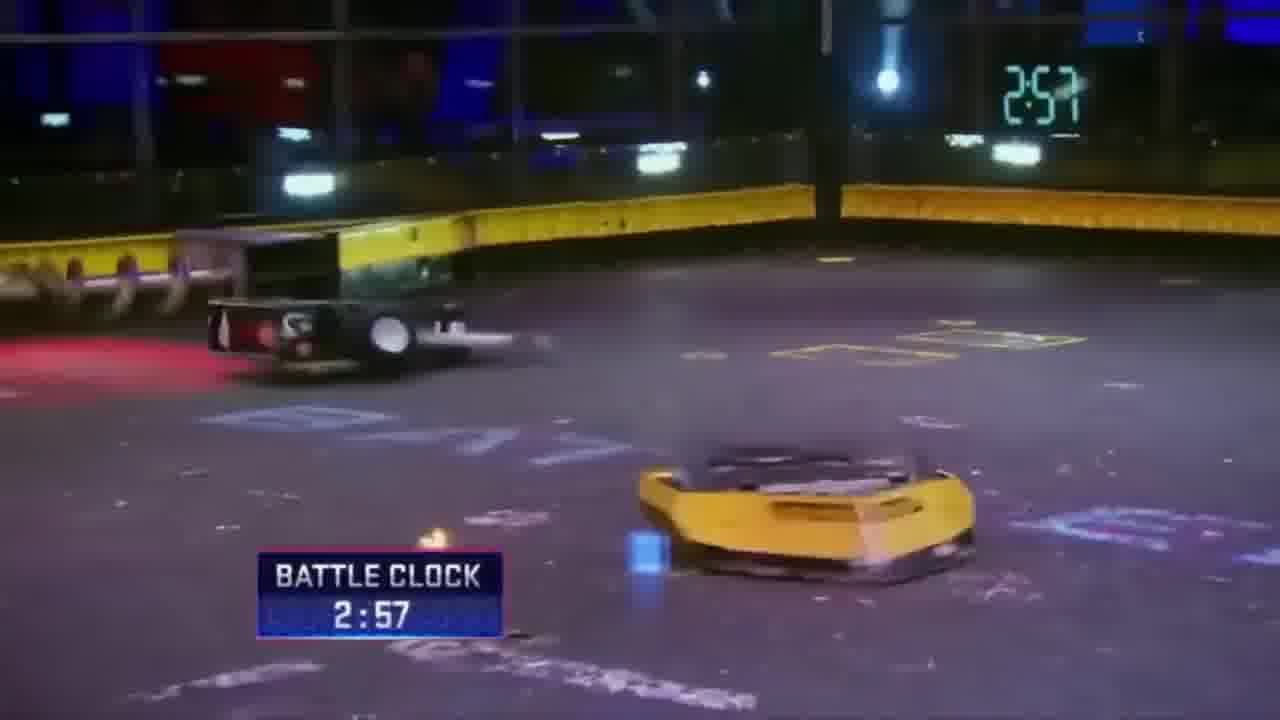combatbot: (632, 443, 983, 586), (205, 298, 539, 368)
